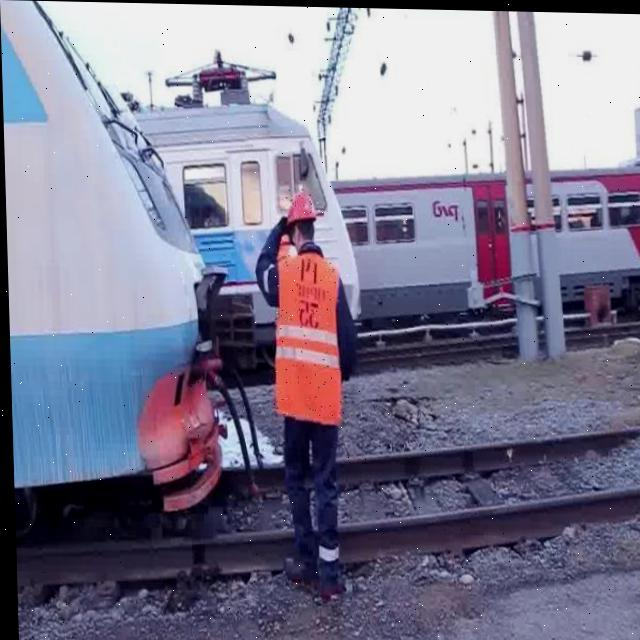Helmet: (286, 189, 318, 224)
Safety-Vest: (268, 241, 344, 425)
